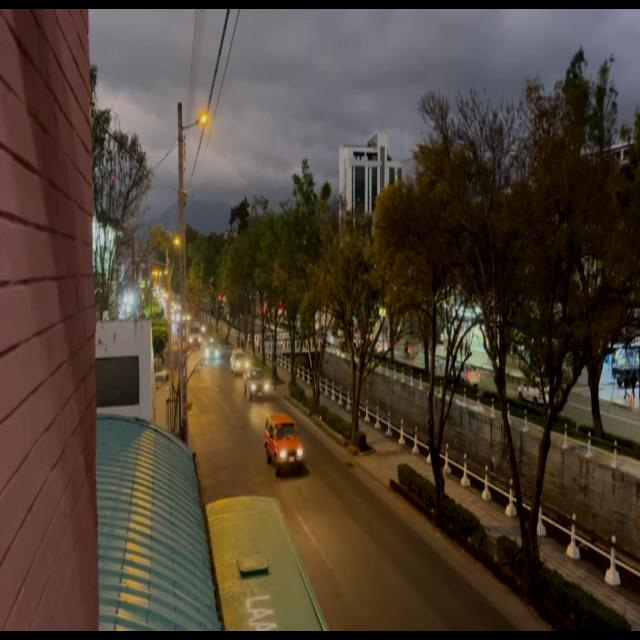CMT: (244, 371, 267, 399)
SUV: (268, 416, 303, 476)
